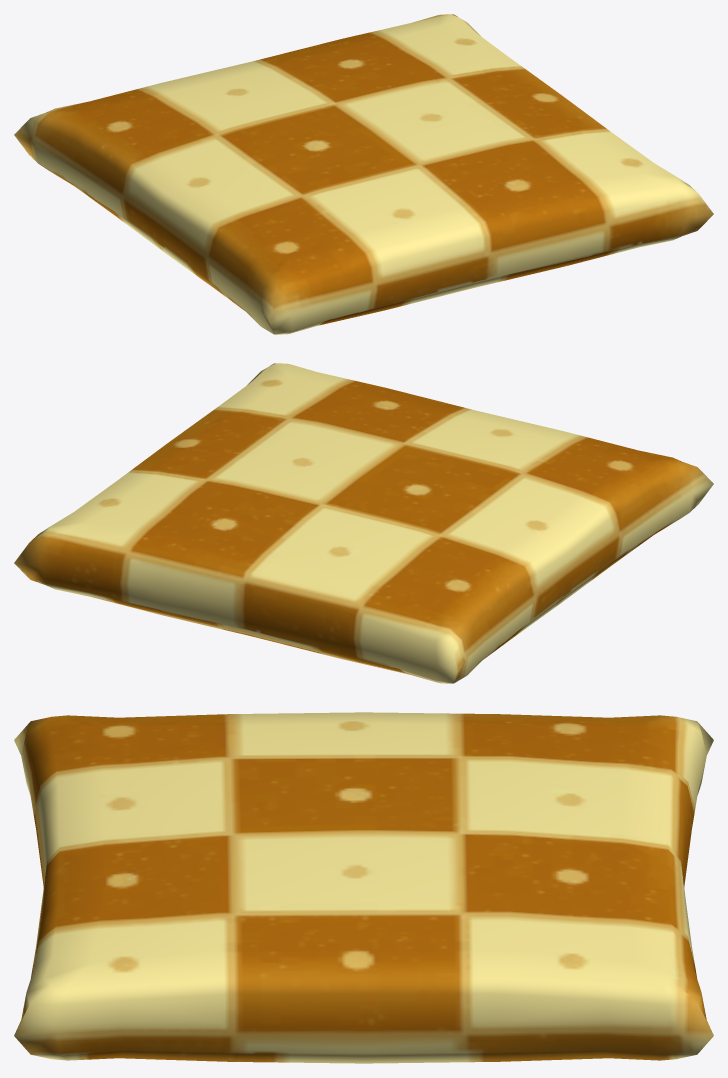
The model's file is pi_cushion01_02.gltf.
3 renders of one model, top to bottom at view 1: azimuth 30°, elevation 25°; view 2: azimuth 150°, elevation 25°; view 3: azimuth 270°, elevation 25°, orthographic. The views are drawn at different scales.
Parts seen in each view (by area): view 1: pi_cushion01_02_mesh_shape:pi_cushion01; view 2: pi_cushion01_02_mesh_shape:pi_cushion01; view 3: pi_cushion01_02_mesh_shape:pi_cushion01.
Boxes of the visible parts, x1,y1,x2,y2 form: pi_cushion01_02_mesh_shape:pi_cushion01: [14, 14, 713, 334]; pi_cushion01_02_mesh_shape:pi_cushion01: [14, 363, 713, 683]; pi_cushion01_02_mesh_shape:pi_cushion01: [14, 712, 713, 1063].
Bounding box in the file's own units: 1.36 × 0.261 × 1.36.
Materials: 1 (1 with a texture image).
